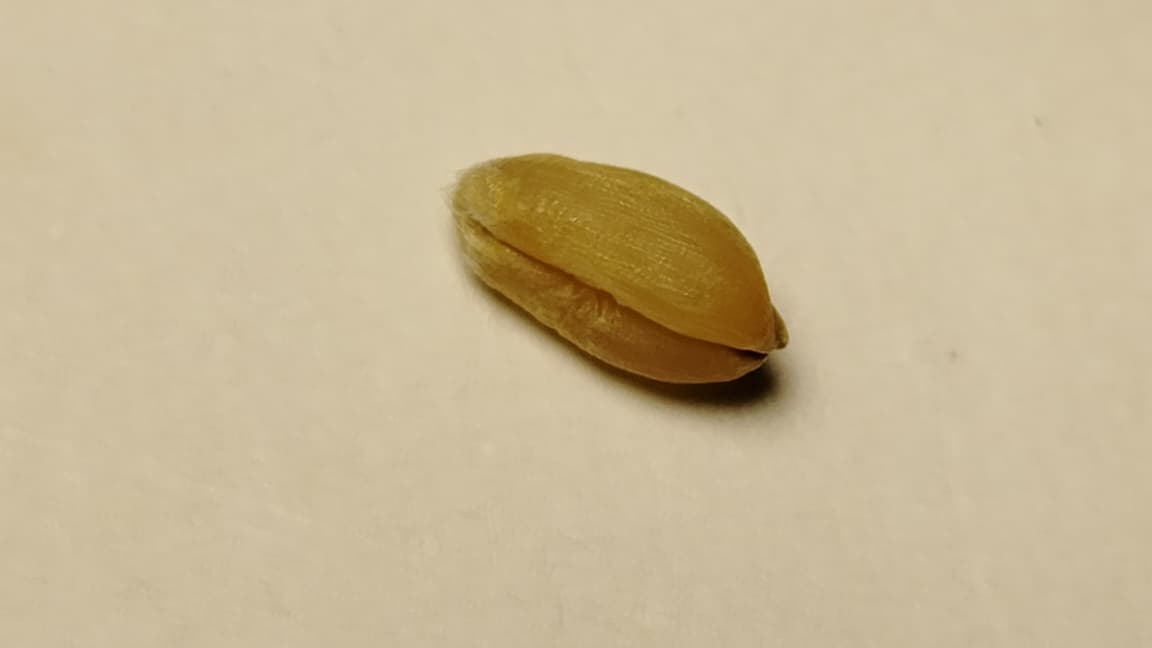healthy: (452, 153, 786, 382)
